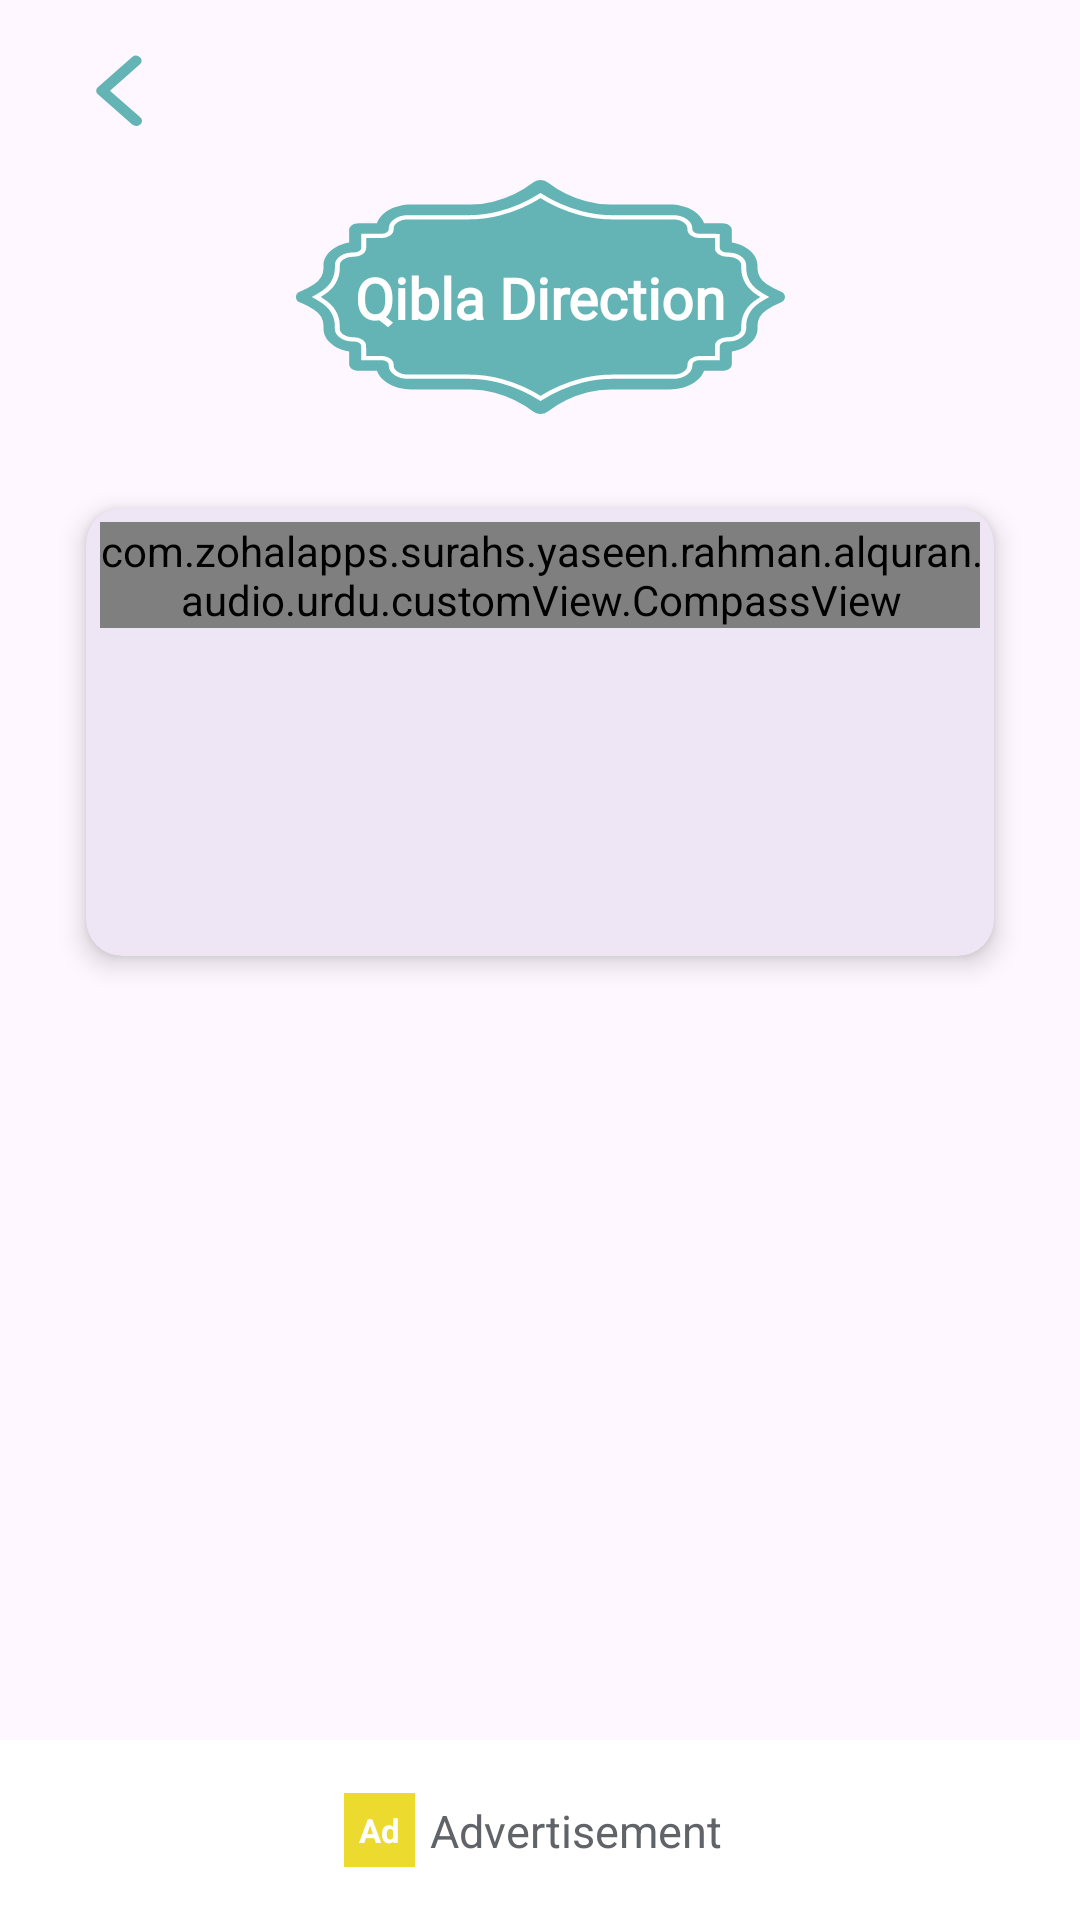

Icon bounding boxes for this 1080*1920 phone screenshot, format (x1, y1, x2, y2):
previous: (96, 55, 142, 126)
